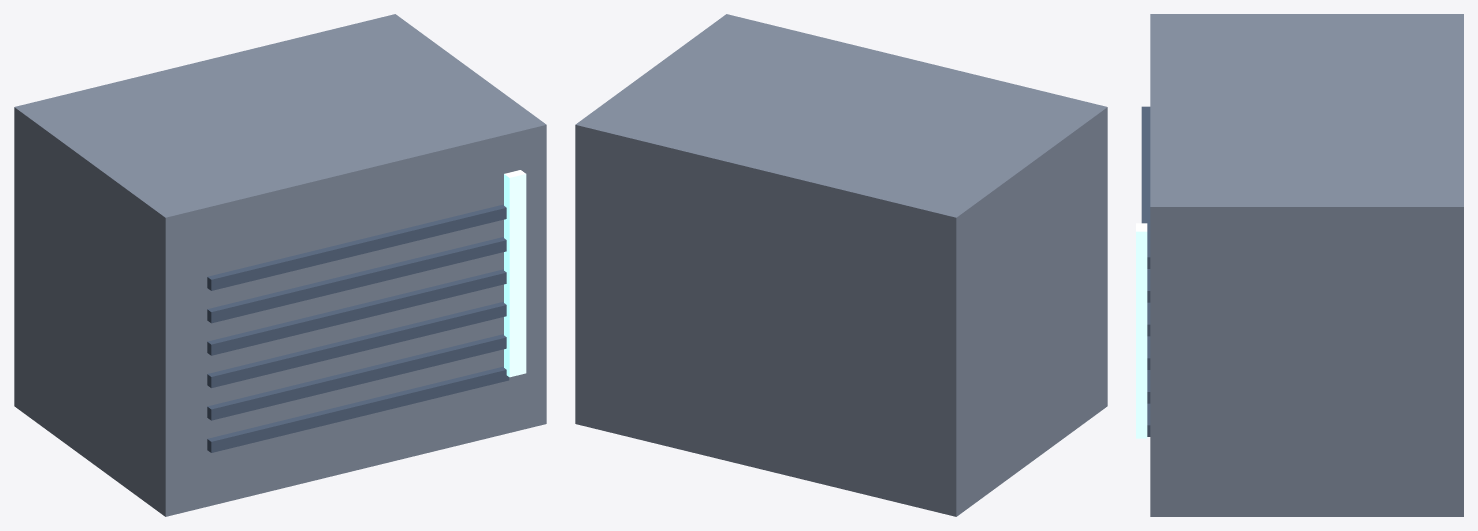
The model's file is hvac_unit.glb.
3 views of the same model, side by side, from view 1: azimuth 30°, elevation 25°; view 2: azimuth 150°, elevation 25°; view 3: azimuth 270°, elevation 25° (orthographic). The views are drawn at different scales.
Parts seen in each view (by area): view 1: case, vent (×6), neon; view 2: case; view 3: case, neon, vent.
Boxes of the visible parts, x1=… form: case: x1=14, y1=14, x2=546, y2=516; vent (×6): x1=207, y1=204, x2=509, y2=452; neon: x1=504, y1=170, x2=526, y2=377; case: x1=575, y1=14, x2=1107, y2=516; case: x1=1150, y1=14, x2=1463, y2=516; neon: x1=1136, y1=223, x2=1147, y2=438; vent: x1=1141, y1=106, x2=1150, y2=268.
Size of the model in its own units: 1.6 by 1.2 by 1.15.
